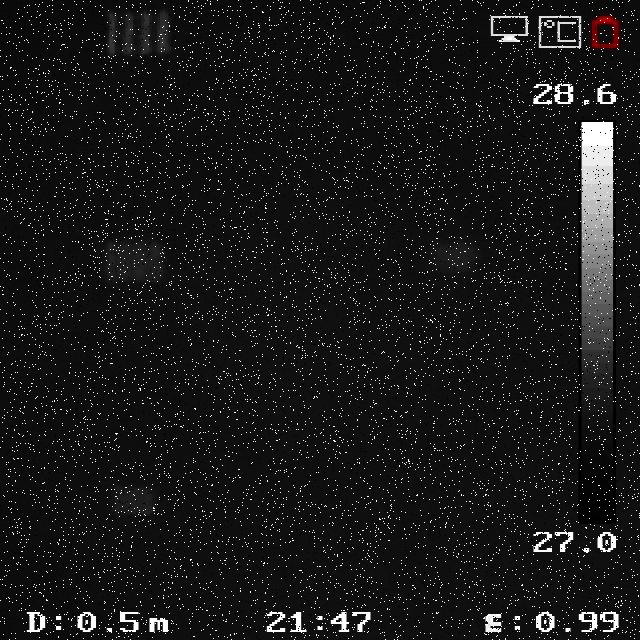Distinguishable 4-bar target: (102, 8, 174, 53)
Indistinguishable 4-bar target: (106, 245, 158, 280), (109, 487, 152, 515), (435, 248, 473, 275)
